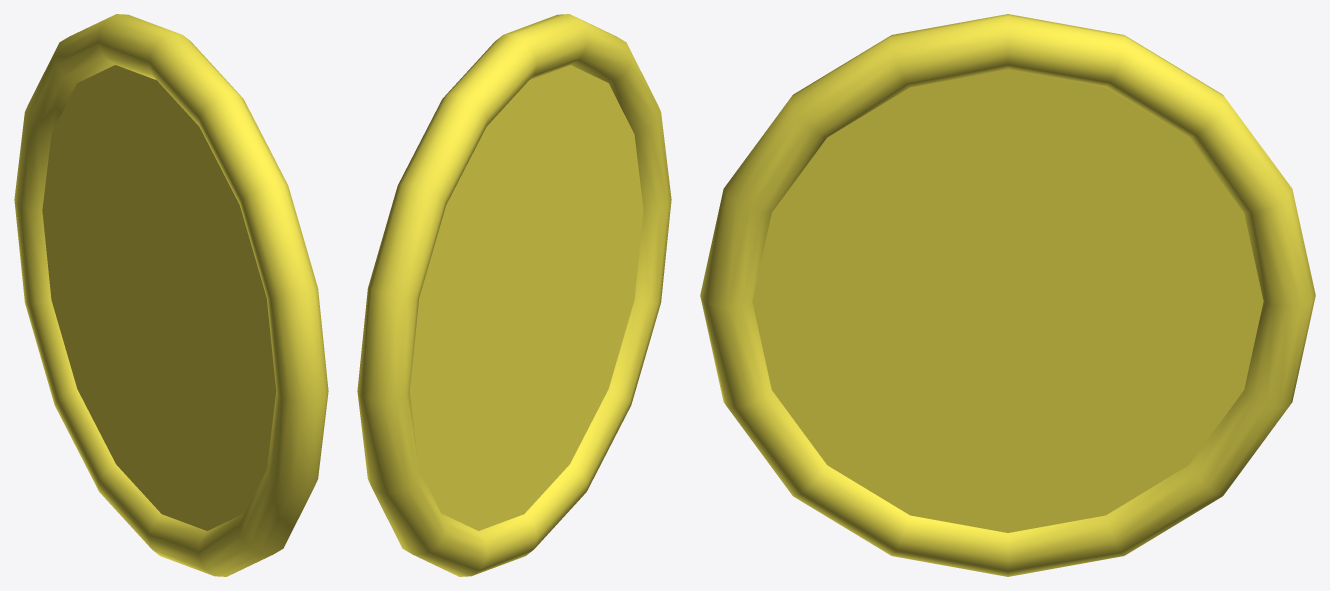
File: coin.fbx
The picture shows the model from 3 angles, left to right: view 1: azimuth 30°, elevation 25°; view 2: azimuth 150°, elevation 25°; view 3: azimuth 270°, elevation 25°; orthographic projection. The views are drawn at different scales.
Parts seen in each view (by area): view 1: Plane, Torus; view 2: Plane, Torus; view 3: Plane, Torus.
Boxes of the visible parts, x1,y1,x2,y2 form: Plane: [42, 65, 276, 530]; Torus: [14, 14, 328, 576]; Plane: [409, 65, 643, 530]; Torus: [357, 14, 671, 576]; Plane: [752, 69, 1263, 532]; Torus: [700, 14, 1315, 576].
Size of the model in its own units: 20 by 220 by 220.
